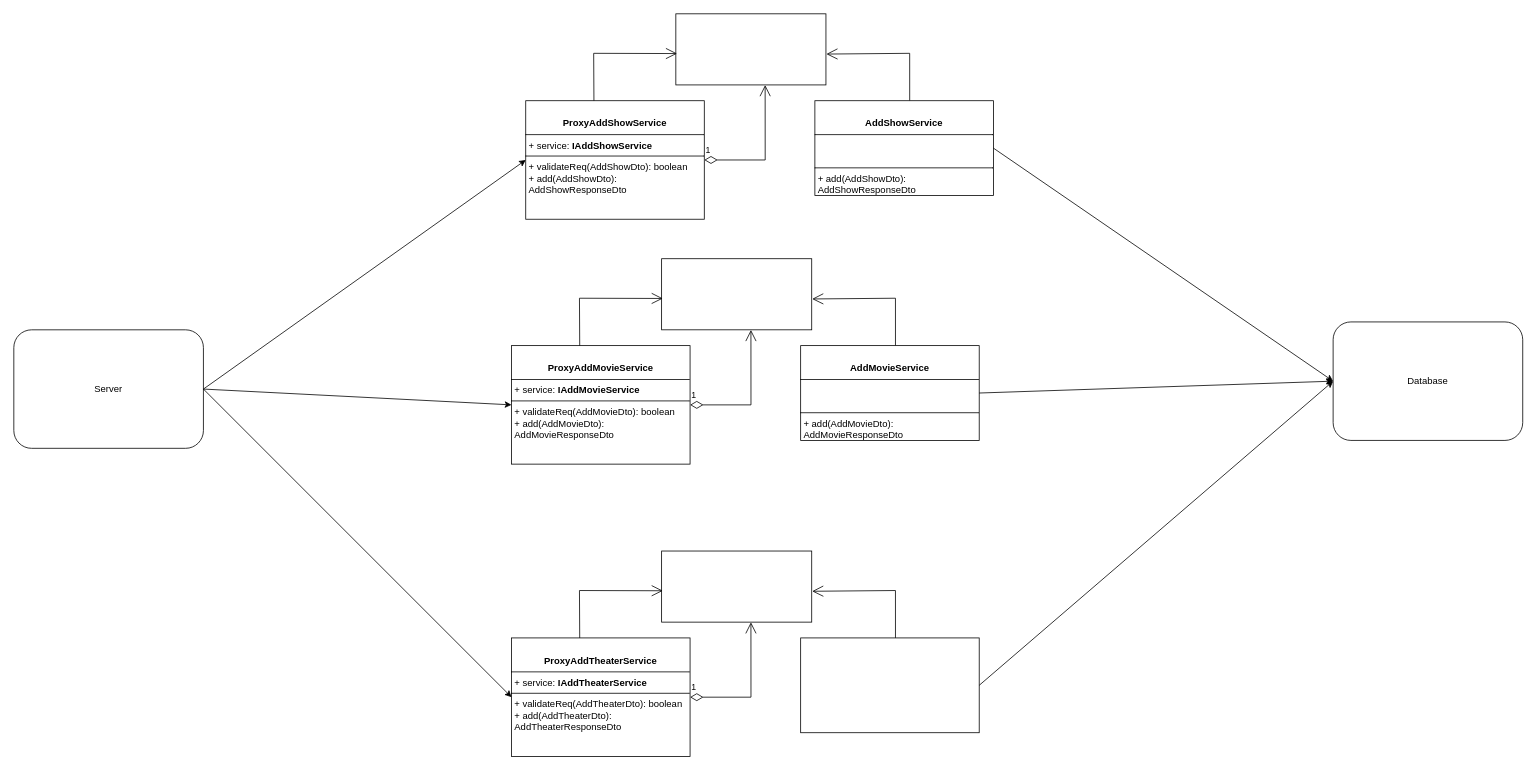
This 1537x770 diagram has some shape labels left out. Each missing label, with the box of its shape:
<<Interface>> IAddMovieService + add(AddMovieDto): AddMovieResponseDto: (661, 258, 812, 330)
<<Interface>> IAddShowService + add(AddShowDto): AddShowResponseDto: (675, 13, 826, 85)
<<Interface>> IAddTheaterService + add(AddTheaterDto): AddTheaterResponseDto: (661, 550, 812, 622)
Add Theater Service + add(AddTheaterDto): AddTheaterResponseDto: (800, 637, 979, 733)
